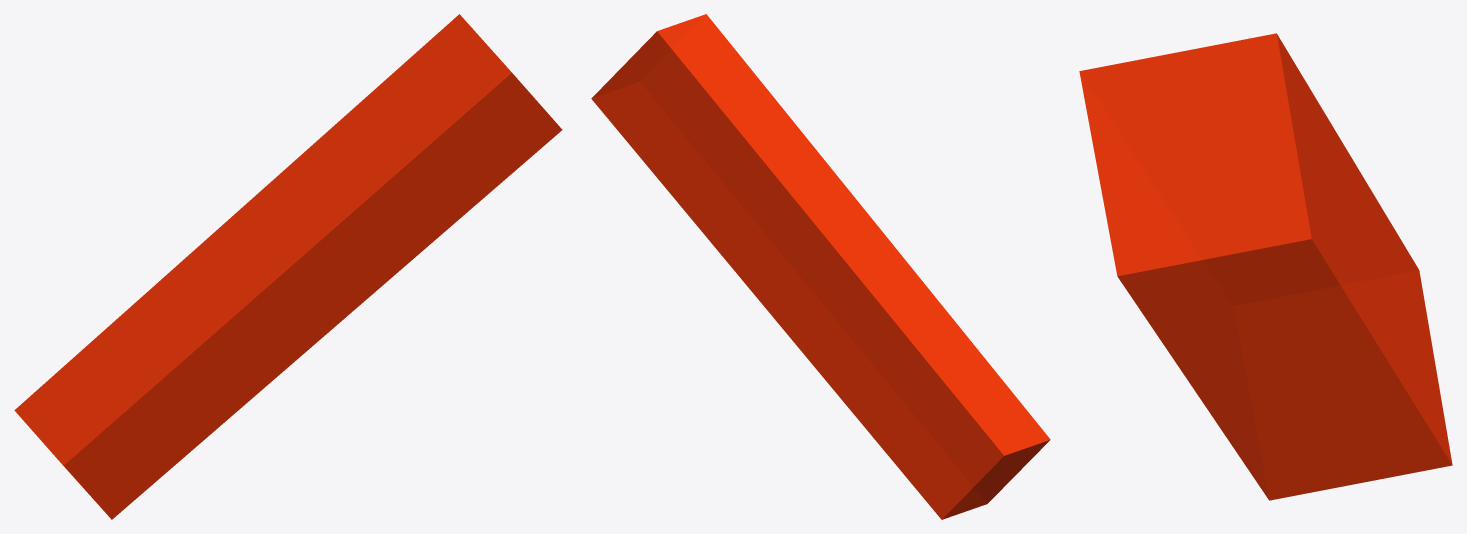
Rendered from Event_421115418_EBrechit_39.fbx.
3 renders of one model, left to right at view 1: azimuth 30°, elevation 25°; view 2: azimuth 150°, elevation 25°; view 3: azimuth 270°, elevation 25°, orthographic. The views are drawn at different scales.
Parts seen in each view (by area): view 1: Model; view 2: Model; view 3: Model.
Boxes of the visible parts, left/top/right/bottom form: Model: left=14, top=14, right=562, bottom=519; Model: left=591, top=14, right=1050, bottom=519; Model: left=1079, top=33, right=1452, bottom=500.
Size of the model in its own units: 0.2999 by 0.2567 by 0.1102.
